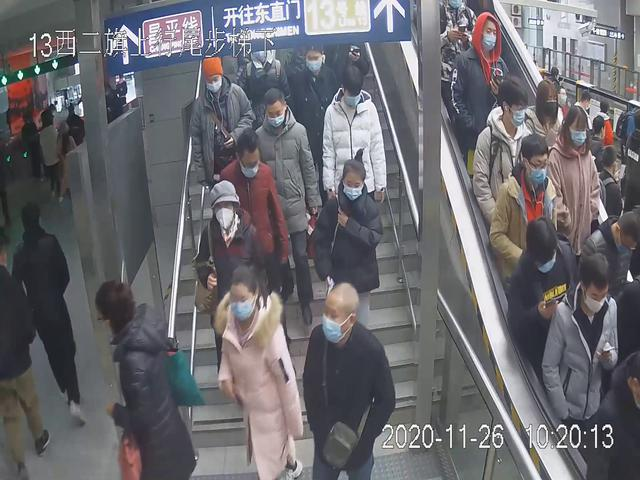person: (93, 272, 205, 480), (298, 279, 395, 480), (540, 250, 625, 473), (213, 263, 300, 480), (249, 90, 324, 328), (193, 174, 275, 377), (310, 153, 385, 336), (321, 53, 387, 228), (449, 8, 512, 191), (185, 49, 254, 204), (546, 104, 602, 259)
